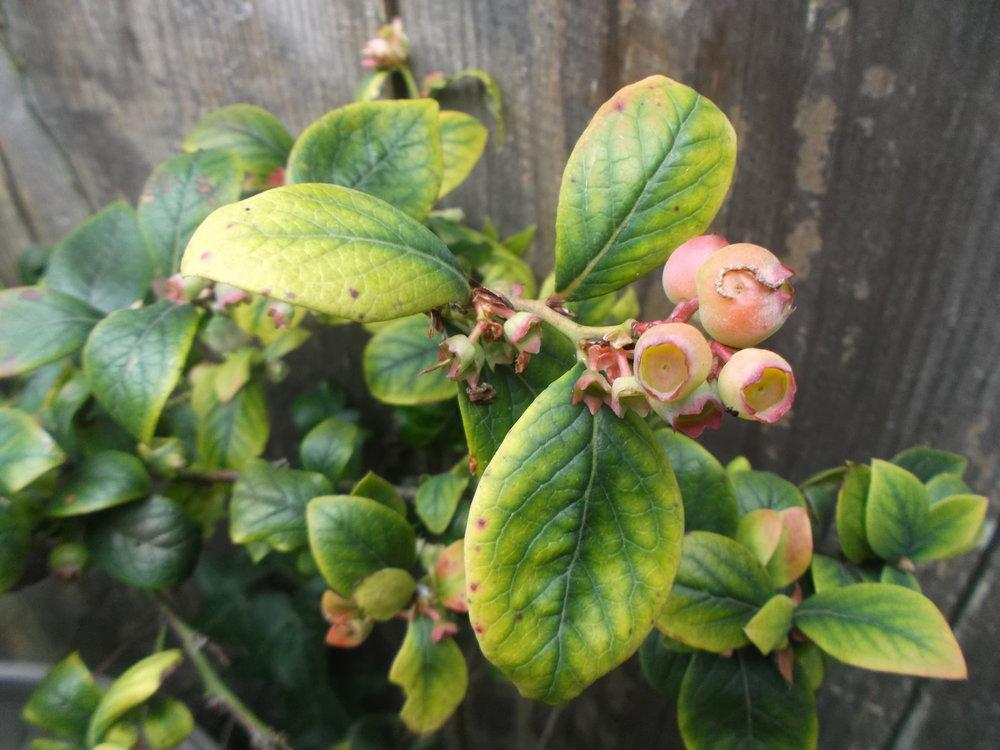Blueberry leaf: (461, 367, 684, 739), (158, 171, 482, 329), (554, 76, 761, 318), (795, 568, 988, 708), (87, 290, 220, 466), (857, 453, 994, 587), (294, 495, 433, 608)
